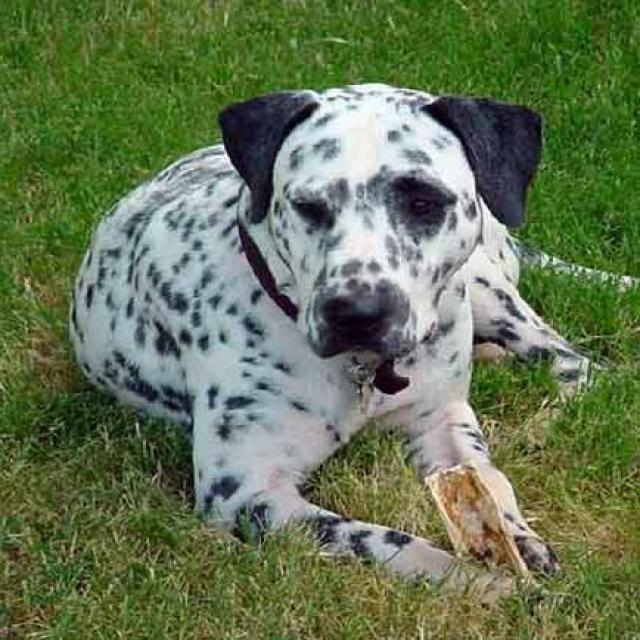dog: (66, 81, 638, 611)
